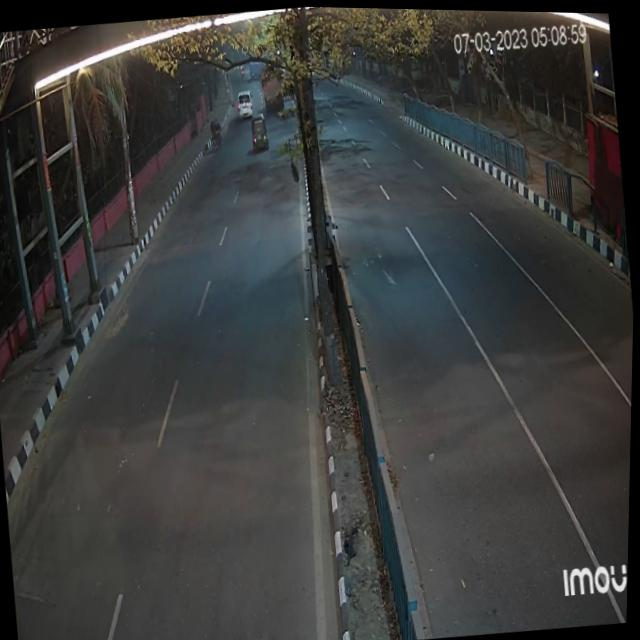cng: (249, 110, 271, 152)
rikshaw: (206, 112, 231, 155)
